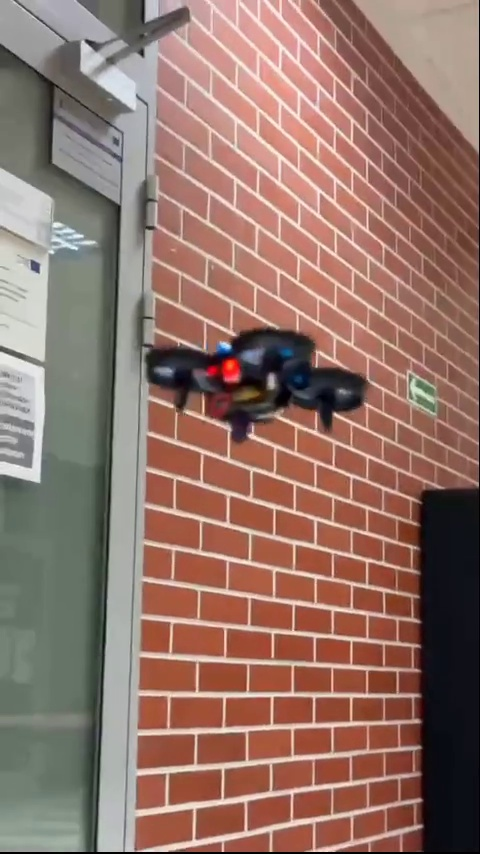drone: (149, 325, 367, 445)
